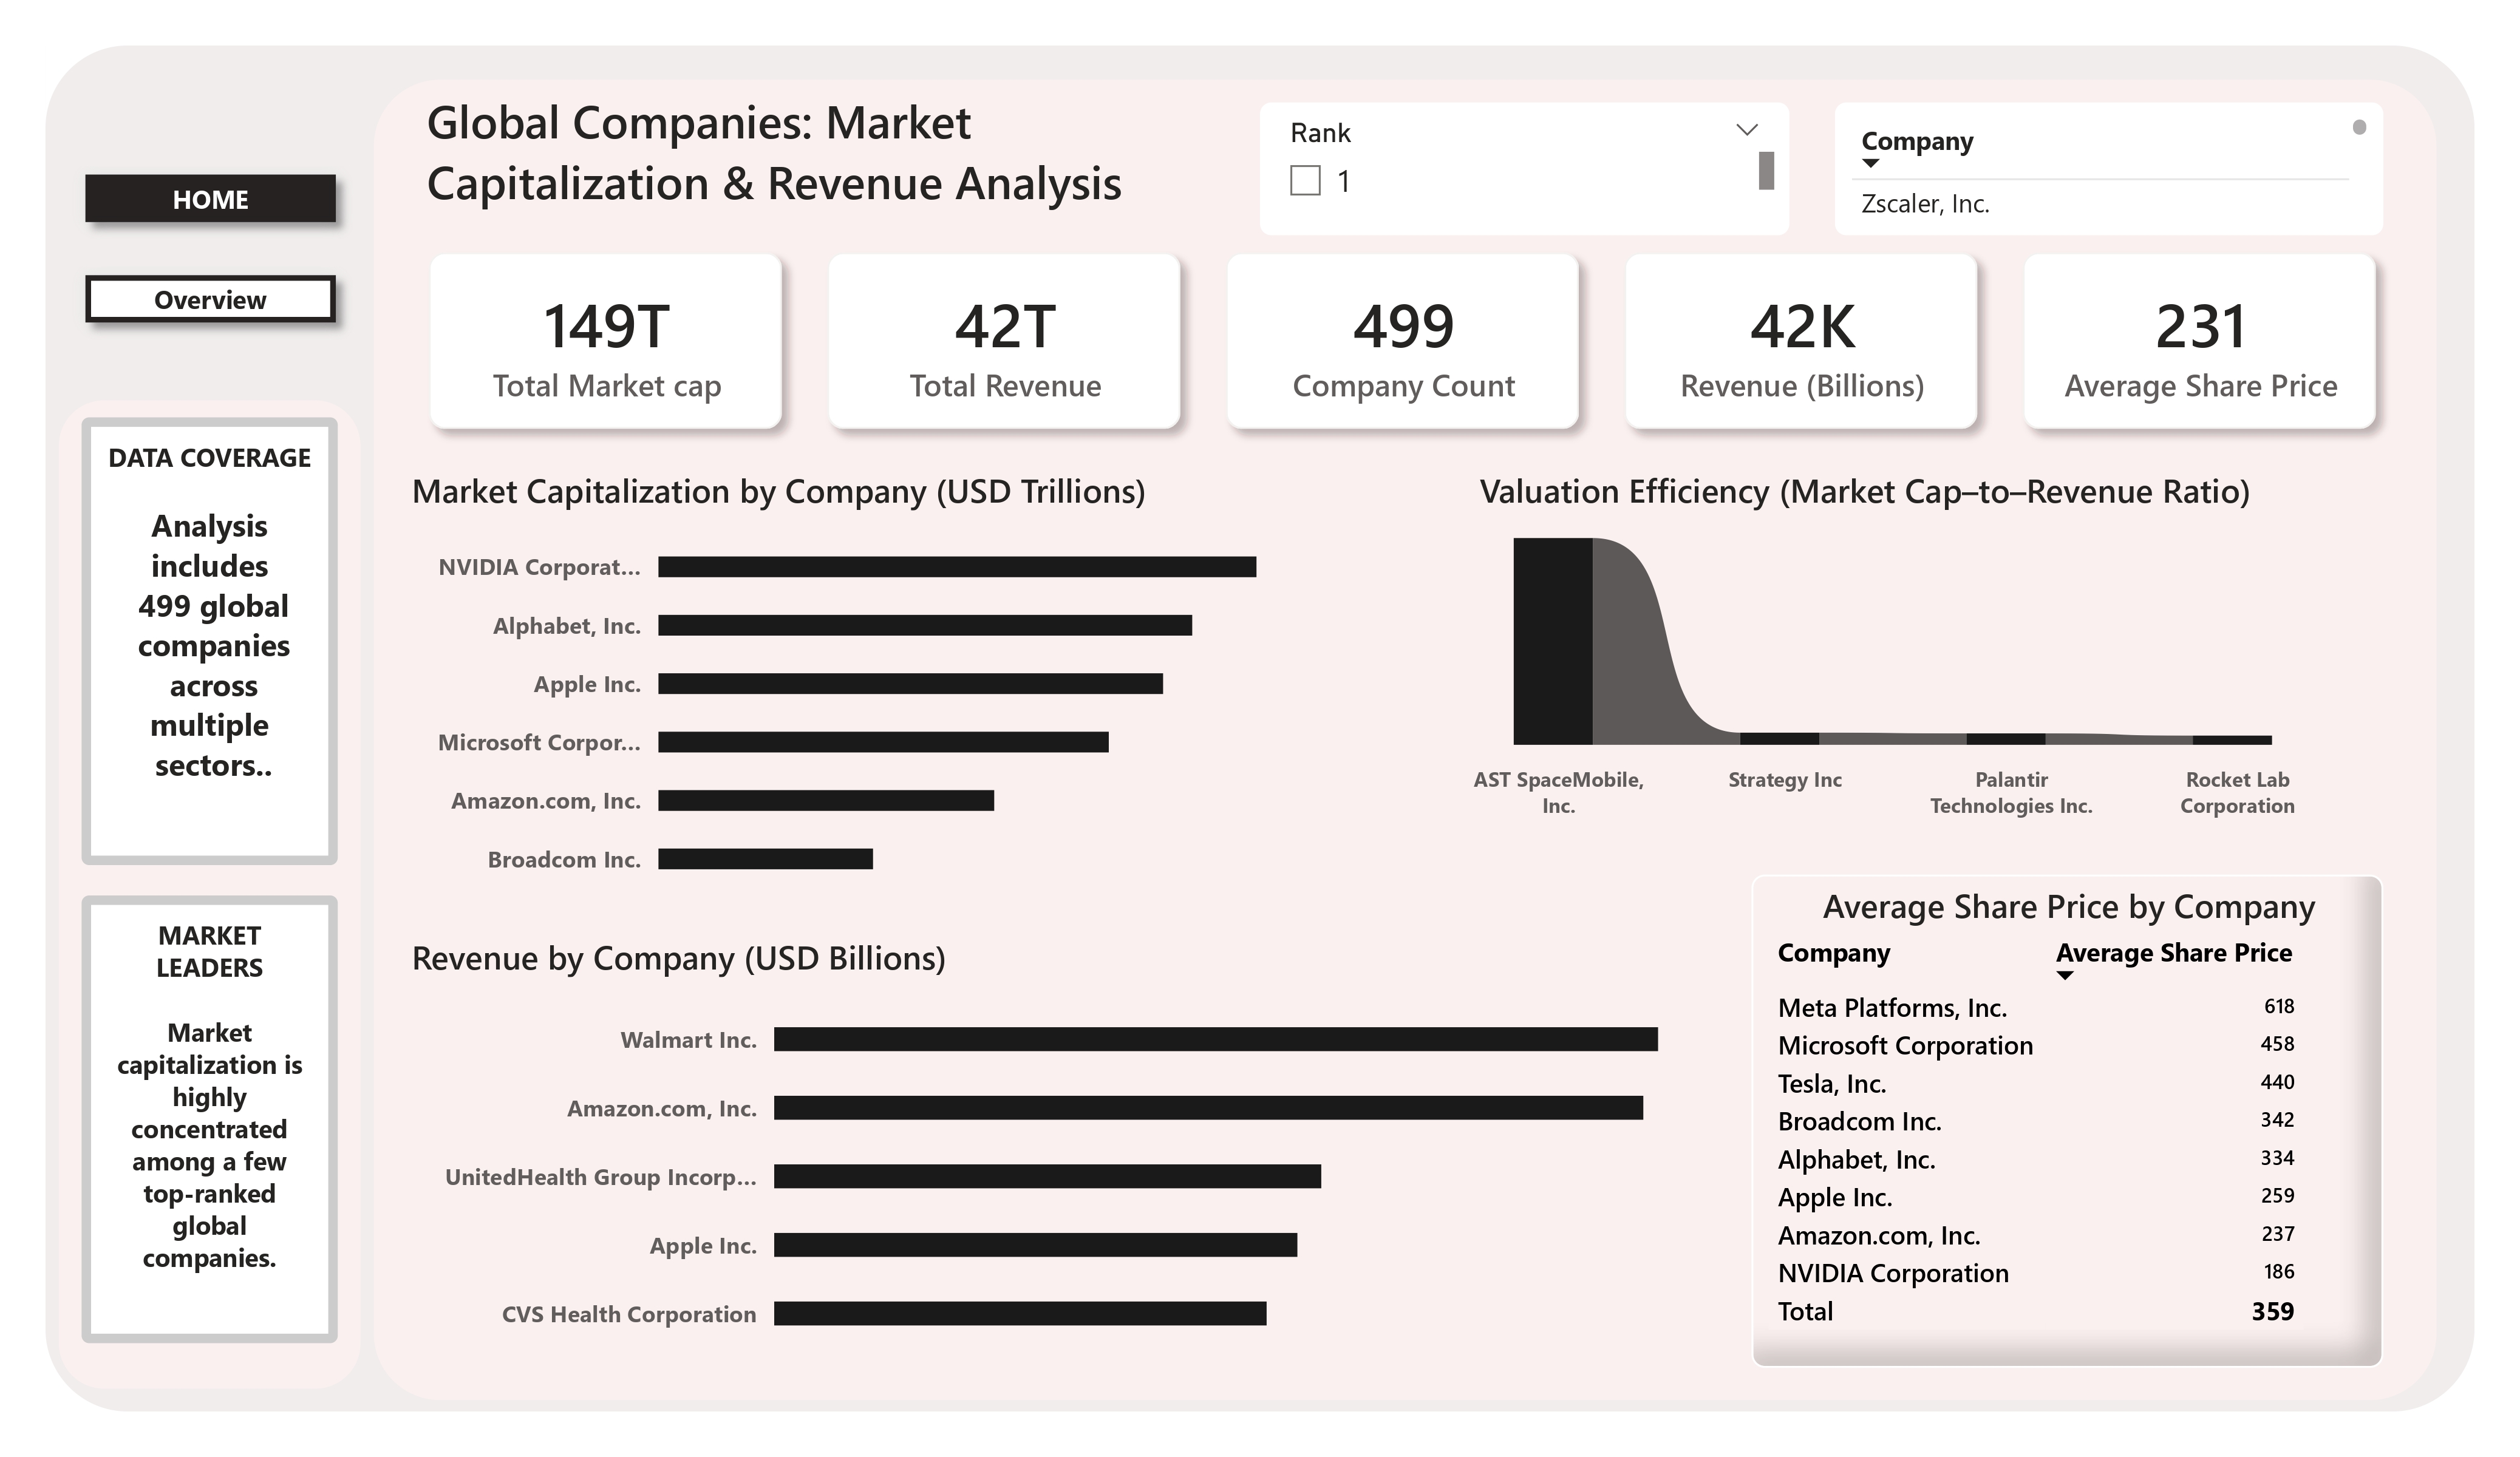

Layout of this report page (visuals, bound fields, positions):
{"tool":"powerbi","page":{"name":"HOME","canvas":[1280,720],"ordinal":0},"visuals":[{"type":"shape","box":[0,0,1280,720],"z":0},{"type":"shape","box":[173.3,17.8,1086.7,696.7],"z":1000},{"type":"cardVisual","fields":{"Data":["Global_Companies_MarketCap_Revenue.Total Market cap","Global_Companies_MarketCap_Revenue.Total Revenue","Global_Companies_MarketCap_Revenue.Company Count","Global_Companies_MarketCap_Revenue.Revenue (Billions)","Global_Companies_MarketCap_Revenue.Average Stock Price"]},"box":[173.3,80,1086.7,151.1],"z":2000},{"type":"clusteredBarChart","title":"Market Capitalization by Company (USD Trillions)","fields":{"Category":["Global_Companies_MarketCap_Revenue.Company_name"],"Y":["Global_Companies_MarketCap_Revenue.Market Cap (Trillions)"]},"box":[187.8,222.2,488.9,231.1],"z":3000},{"type":"barChart","title":"Revenue by Company (USD Billions)","fields":{"Category":["Global_Companies_MarketCap_Revenue.Company_name"],"Y":["Global_Companies_MarketCap_Revenue.Revenue (Billions)"]},"box":[187.8,467.8,731.1,227.8],"z":4000},{"type":"ribbonChart","title":"Valuation Efficiency (Market Cap–to–Revenue Ratio)","fields":{"Category":["Global_Companies_MarketCap_Revenue.Company_name"],"Y":["Global_Companies_MarketCap_Revenue.Market Cap to Revenue Ratio"]},"box":[685.6,222.2,546.7,193.3],"z":5000},{"type":"tableEx","fields":{"Values":["Global_Companies_MarketCap_Revenue.Company_name"]},"box":[943.3,30,288.9,70],"z":6000},{"type":"slicer","fields":{"Values":["Global_Companies_MarketCap_Revenue.Rank"]},"box":[640,30,278.9,70],"z":7000},{"type":"pivotTable","title":"Average Share Price by Company","fields":{"Rows":["Global_Companies_MarketCap_Revenue.Company_name"],"Values":["Global_Companies_MarketCap_Revenue.Average Stock Price"]},"box":[898.9,436.7,333.3,260],"z":8000},{"type":"textbox","box":[195.6,17.8,431.1,82.2],"z":9000},{"type":"shape","box":[6.7,186.7,158.9,521.1],"z":13000},{"type":"textbox","box":[18.9,447.8,135.6,236.7],"z":14000},{"type":"textbox","box":[18.9,195.6,135.6,236.7],"z":15000},{"type":"pageNavigator","box":[12.2,58.9,150,96.7],"z":16000}]}

Visuals, with their boxes in screenshot pixels (x1, y1, x2, y2):
shape: select_region(46, 46, 2474, 1411)
shape: select_region(375, 80, 2436, 1401)
cardVisual - Global_Companies_MarketCap_Revenue.Total Market cap x Global_Companies_MarketCap_Revenue.Total Revenue: select_region(375, 197, 2436, 484)
"Market Capitalization by Company (USD Trillions)" clusteredBarChart: select_region(402, 467, 1330, 906)
"Revenue by Company (USD Billions)" barChart: select_region(402, 933, 1790, 1365)
"Valuation Efficiency (Market Cap–to–Revenue Ratio)" ribbonChart: select_region(1347, 467, 2384, 834)
tableEx - Global_Companies_MarketCap_Revenue.Company_name: select_region(1836, 103, 2384, 236)
slicer - Global_Companies_MarketCap_Revenue.Rank: select_region(1260, 103, 1790, 236)
"Average Share Price by Company" pivotTable: select_region(1751, 874, 2384, 1367)
textbox: select_region(417, 80, 1234, 236)
shape: select_region(58, 399, 359, 1388)
textbox: select_region(81, 895, 339, 1344)
textbox: select_region(81, 416, 339, 866)
pageNavigator: select_region(69, 157, 353, 341)
